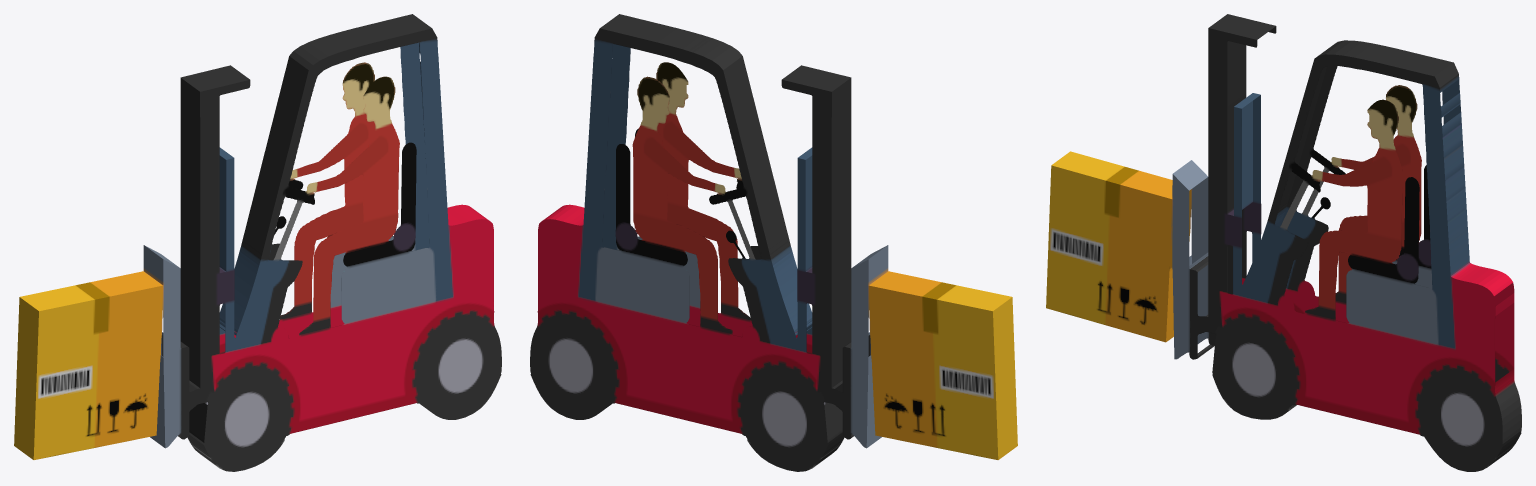
File: cart1Box.FBX
3 renders of one model, left to right at view 1: azimuth 30°, elevation 25°; view 2: azimuth 150°, elevation 25°; view 3: azimuth 330°, elevation 25°, orthographic. The views are drawn at different scales.
Visible parts, largest first — view 1: cart1Box; view 2: cart1Box; view 3: cart1Box.
Boxes of the visible parts, x1,y1,x2,y2 form: cart1Box: (14,14,501,471); cart1Box: (530,14,1017,471); cart1Box: (1046,14,1521,471).
Size of the model in its own units: 40.47 by 32.82 by 2.94.
1 material, 1 textured.
